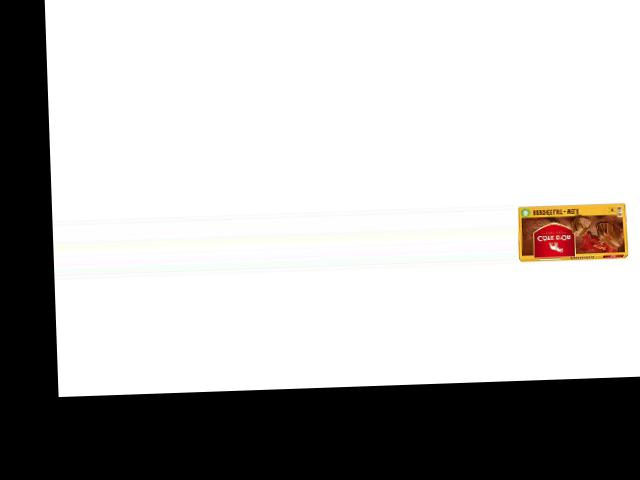chocolate: (516, 193, 630, 264)
